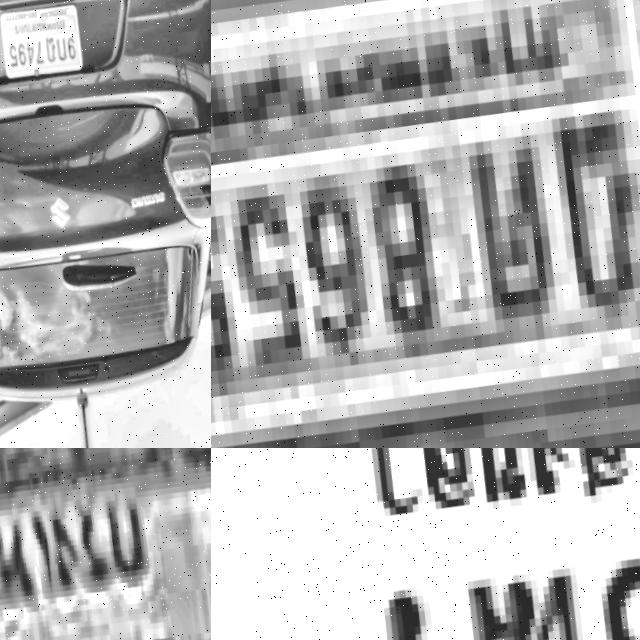license-plate: (211, 0, 640, 448), (211, 448, 640, 640), (0, 448, 211, 640), (0, 0, 88, 86)
